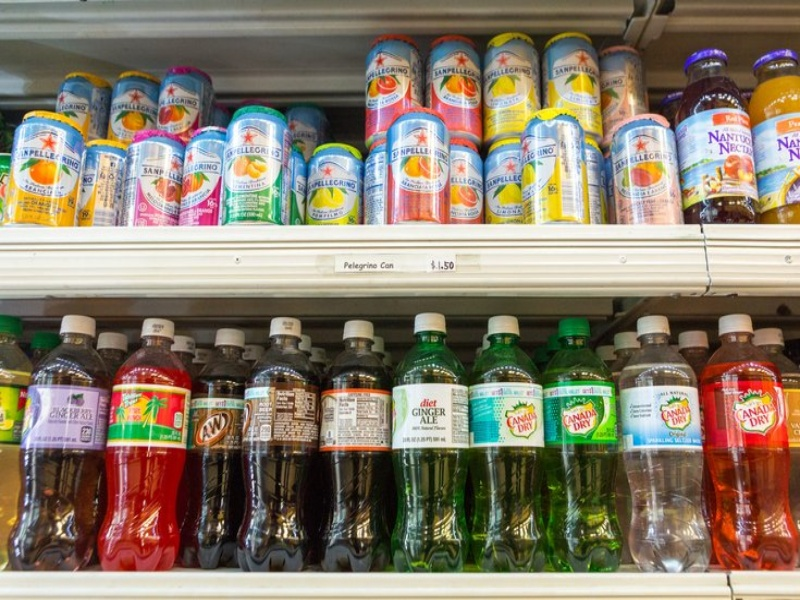Plastic bottle: (598, 293, 725, 565), (359, 300, 483, 571), (78, 301, 204, 551), (439, 309, 551, 559), (530, 305, 631, 552), (10, 301, 114, 540), (297, 307, 399, 542), (228, 304, 323, 545), (159, 300, 253, 535)
